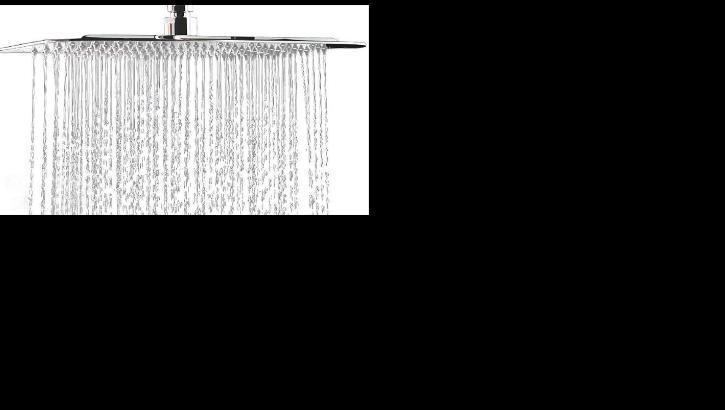Ducha: (0, 5, 368, 214)
